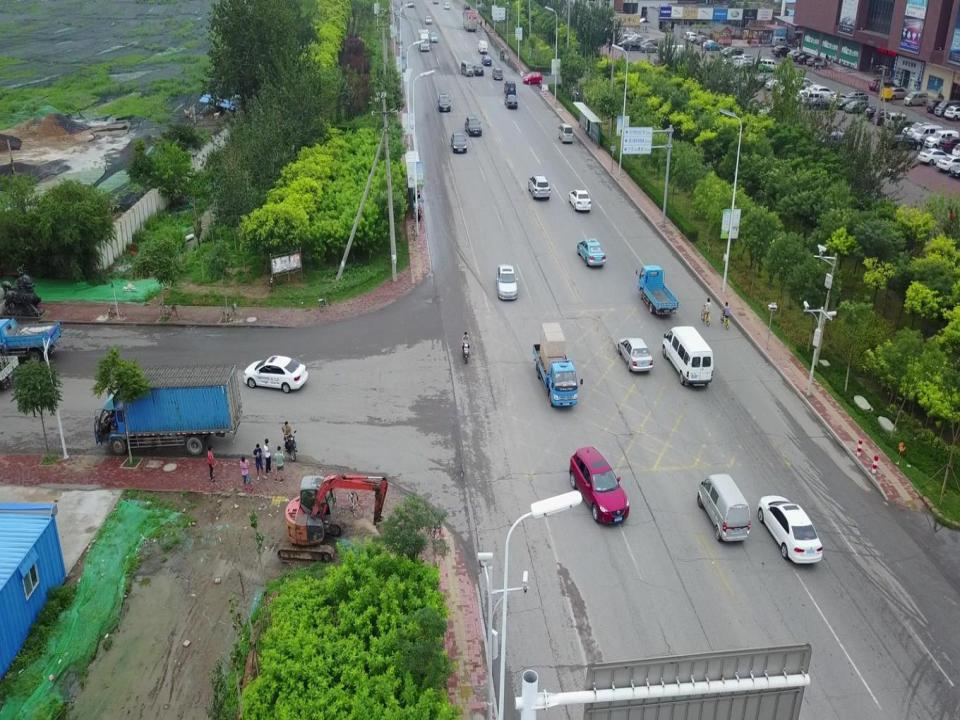bus: (464, 10, 478, 33)
car: (568, 446, 631, 525), (760, 492, 822, 563), (243, 356, 310, 392), (617, 337, 653, 374), (495, 265, 519, 302), (578, 239, 606, 267), (569, 188, 591, 214), (530, 174, 552, 200), (919, 148, 948, 164), (936, 156, 959, 172), (451, 134, 467, 154), (523, 70, 542, 86), (466, 117, 481, 137), (844, 91, 869, 103), (864, 106, 889, 118), (791, 77, 816, 89), (869, 78, 894, 90), (811, 87, 834, 100), (807, 98, 831, 110), (802, 92, 826, 104), (765, 78, 789, 90), (884, 86, 908, 98), (845, 100, 870, 111), (873, 111, 898, 122), (438, 94, 451, 115), (504, 93, 520, 110), (805, 84, 829, 95), (928, 100, 952, 111), (772, 46, 792, 57), (504, 79, 517, 93), (792, 52, 812, 61), (798, 55, 818, 64), (786, 49, 805, 58), (493, 68, 504, 82), (806, 57, 823, 66), (812, 59, 828, 68), (483, 54, 494, 66), (475, 66, 485, 79), (430, 31, 438, 43), (443, 2, 451, 13), (425, 16, 433, 25)
truck: (95, 368, 243, 449), (534, 321, 583, 409), (634, 264, 678, 318)
van: (698, 473, 750, 541), (663, 327, 713, 384), (924, 130, 958, 147), (912, 125, 944, 142), (902, 122, 935, 136), (884, 112, 912, 127), (904, 90, 930, 105), (934, 101, 960, 115), (558, 124, 574, 146), (760, 58, 777, 70), (771, 36, 788, 48)
